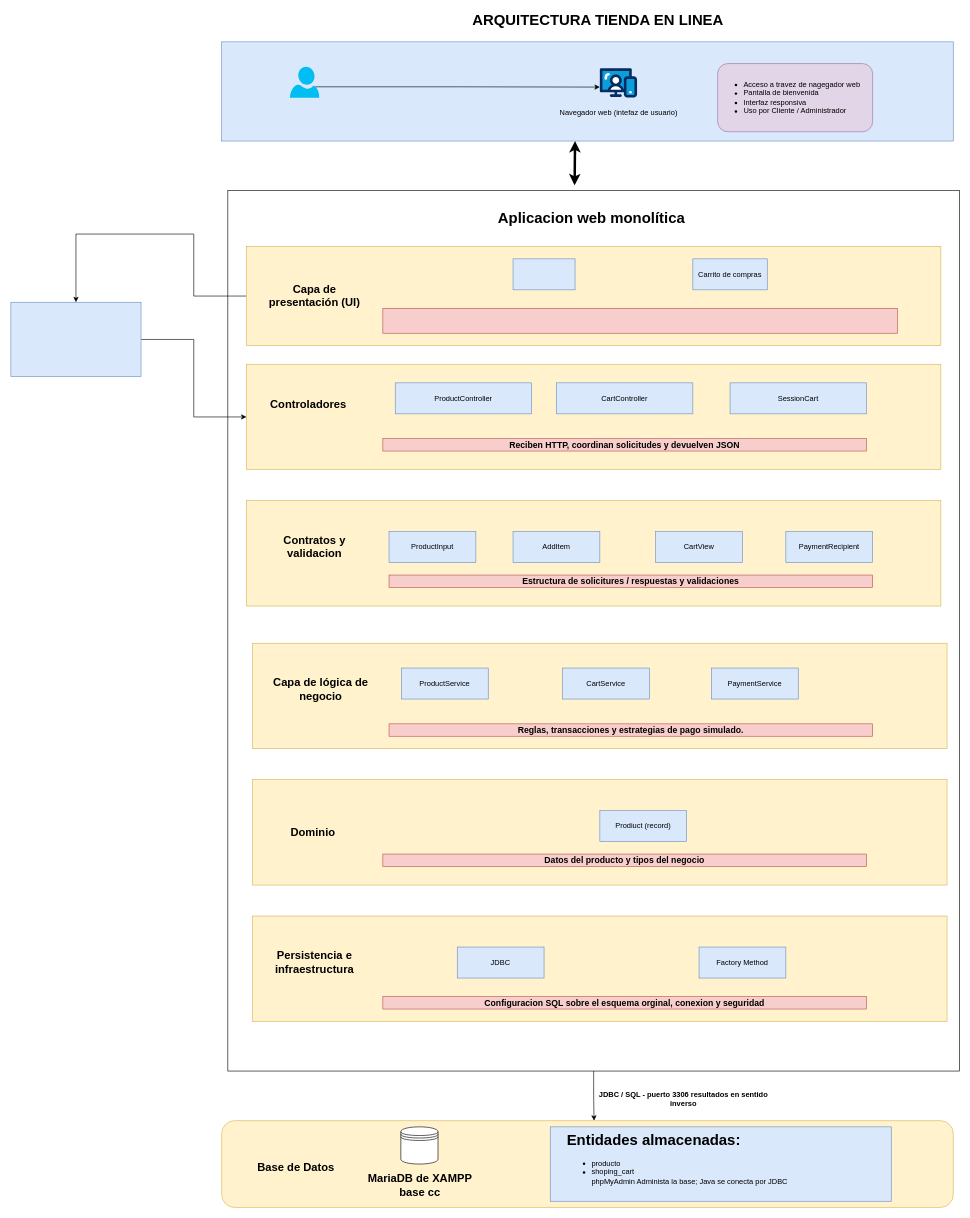
This 970x1218 diagram has some shape labels left out. The shapes that lost their labels are listed below. From the top down, each one's box as (x1, y1, x2, y2) in pixels, then its label:
(290, 66, 319, 97): Cliente / Administrador
(512, 258, 575, 290): Pantalla de bienvenida
(10, 302, 141, 377): CLIENTE Navegador web cliente /administrador Ejecuta HTML, CSS y Java Script
(382, 308, 897, 333): Las vistas de renderizan en HTML y formularios
